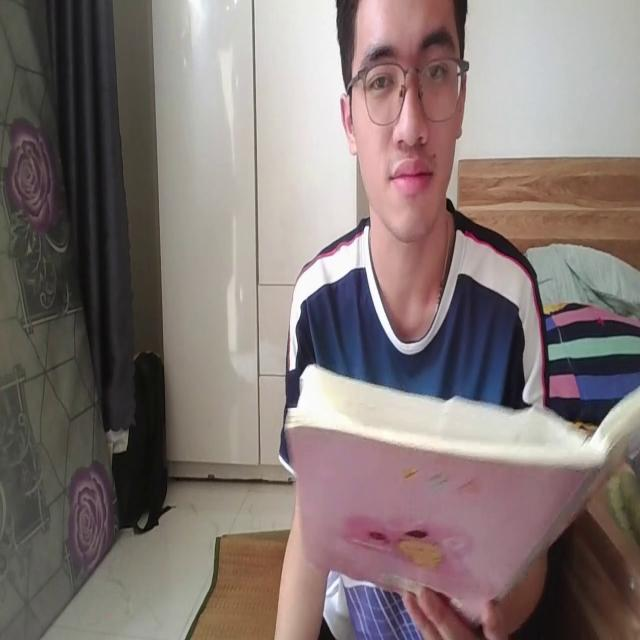book: (291, 348, 640, 630)
student: (284, 0, 550, 640)
